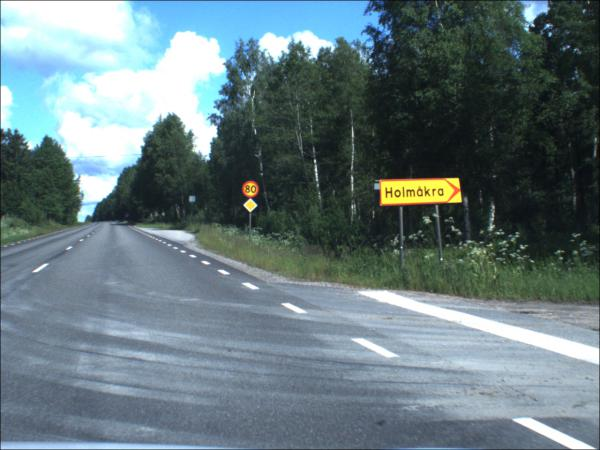80_SIGN: (244, 182, 261, 199)
PRIORITY_ROAD: (245, 199, 260, 215)
